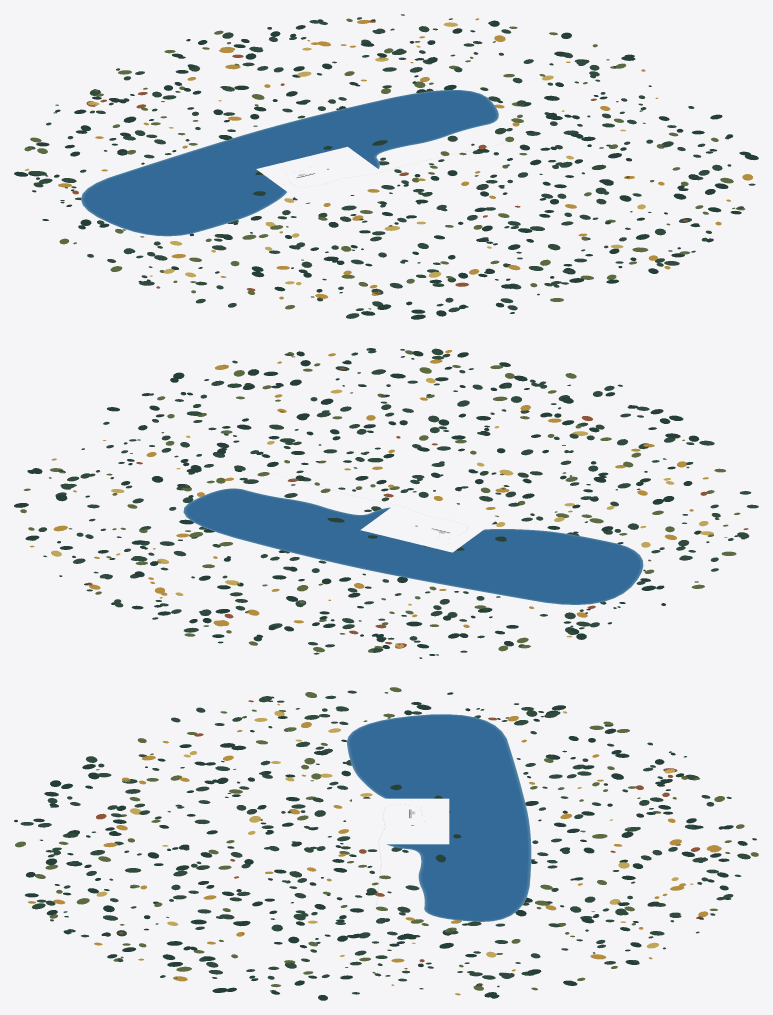
File: land.glb
The picture shows the model from 3 angles, top to bottom: view 1: azimuth 30°, elevation 25°; view 2: azimuth 150°, elevation 25°; view 3: azimuth 270°, elevation 25°; orthographic projection. The views are drawn at different scales.
Parts seen in each view (by area): view 1: decal-canopy-patches, decal-lake, decal-lake-shore; view 2: decal-canopy-patches, decal-lake, decal-lake-shore; view 3: decal-canopy-patches, decal-lake, decal-lake-shore.
Boxes of the visible parts, left/top/right/bottom form: decal-canopy-patches: left=14, top=14, right=758, bottom=319; decal-lake: left=84, top=91, right=495, bottom=234; decal-lake-shore: left=81, top=90, right=498, bottom=236; decal-canopy-patches: left=14, top=348, right=758, bottom=658; decal-lake: left=187, top=490, right=639, bottom=603; decal-lake-shore: left=183, top=488, right=643, bottom=604; decal-canopy-patches: left=14, top=687, right=758, bottom=1000; decal-lake: left=350, top=715, right=527, bottom=920; decal-lake-shore: left=346, top=714, right=531, bottom=921.
Bounding box in the file's own units: 101859 × 155 × 102218.
